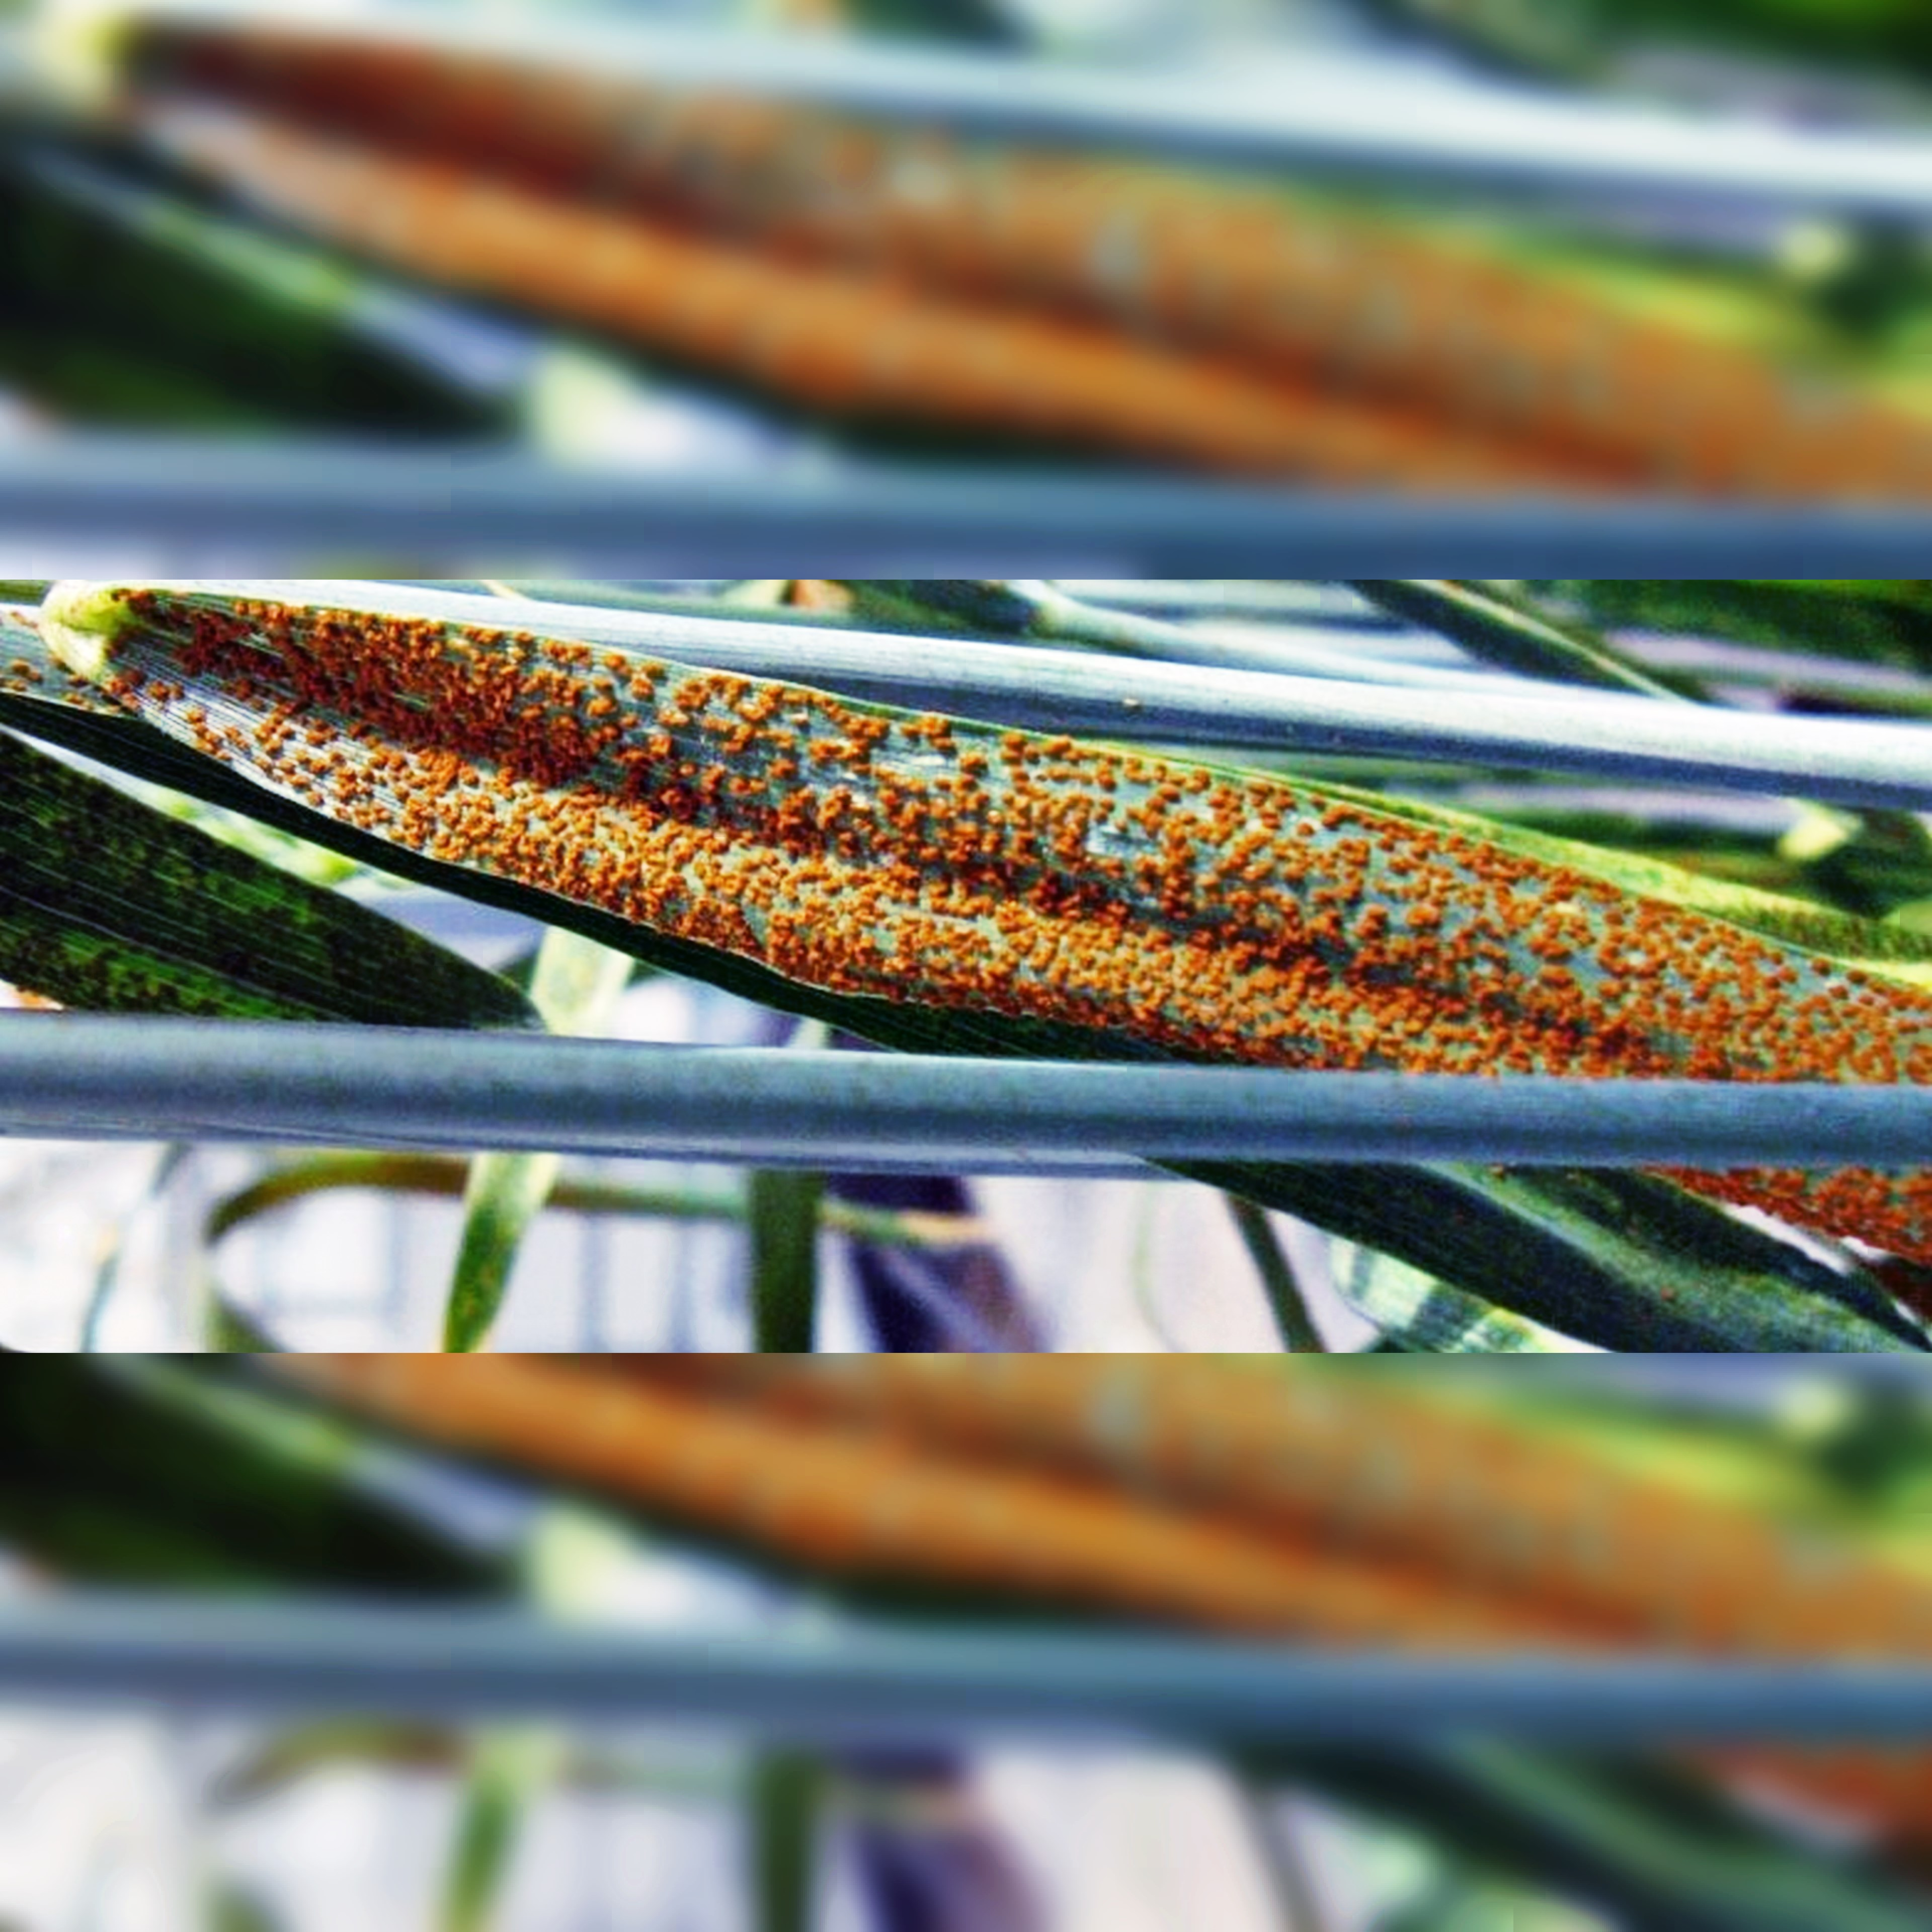Leaf Rust: (262, 616, 1799, 1102)
